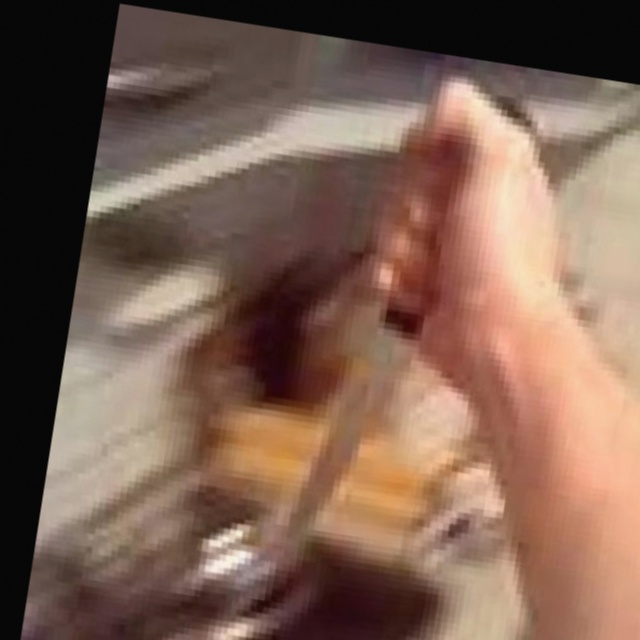Sharp-Object: (277, 79, 538, 592)
